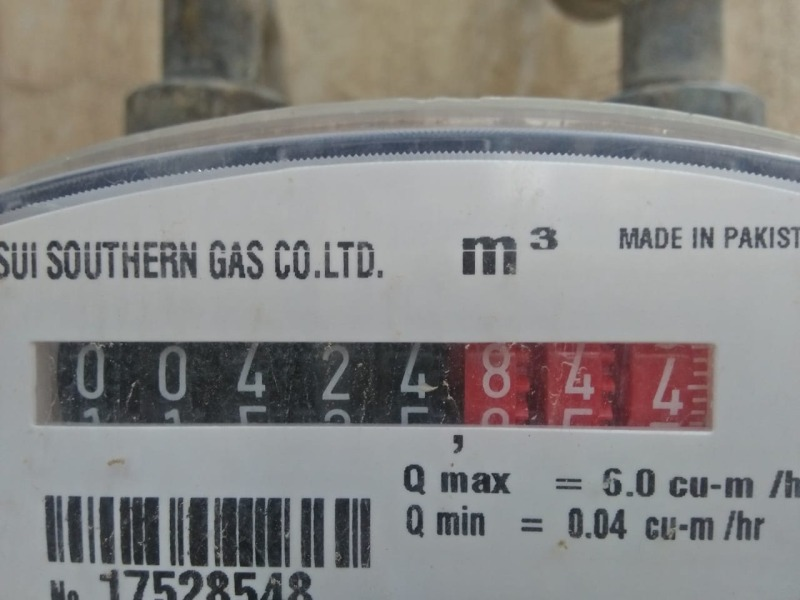ssgc: (27, 335, 717, 432)
